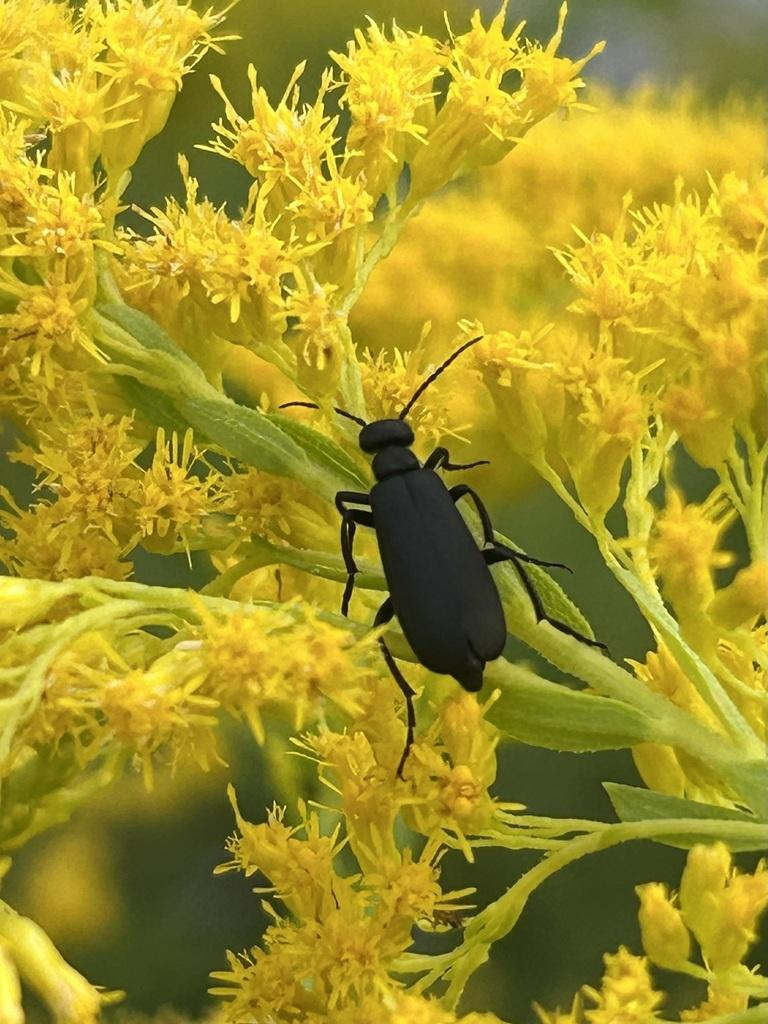blister_beetle: (214, 295, 661, 821)
